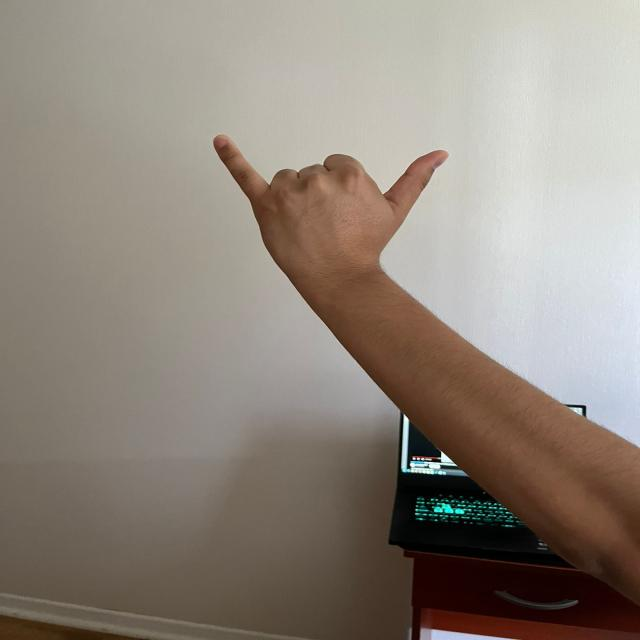Y: (208, 129, 455, 284)
